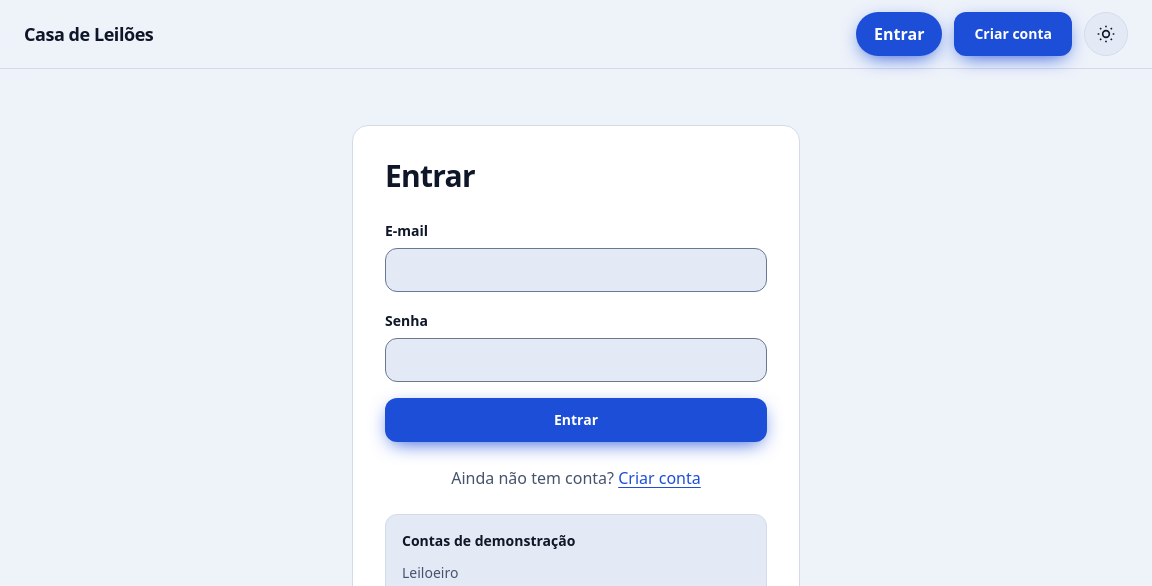
Test: /entrar › MUITAS_TENTATIVAS mostra os segundos do Retry-After
Type "a@b.co" into the field labelled "E-mail".
click(576, 270); type("a@b.co")  # box [385,248,767,292]
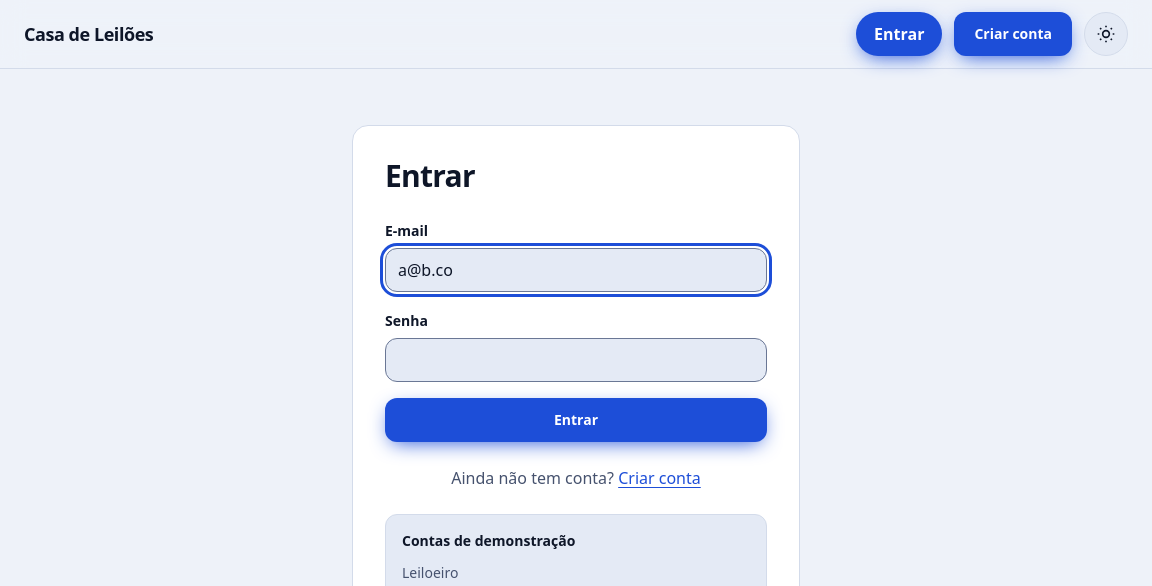
Type "x" into the password field labelled "Senha".
click(576, 360); type("x")  # box [385,338,767,382]
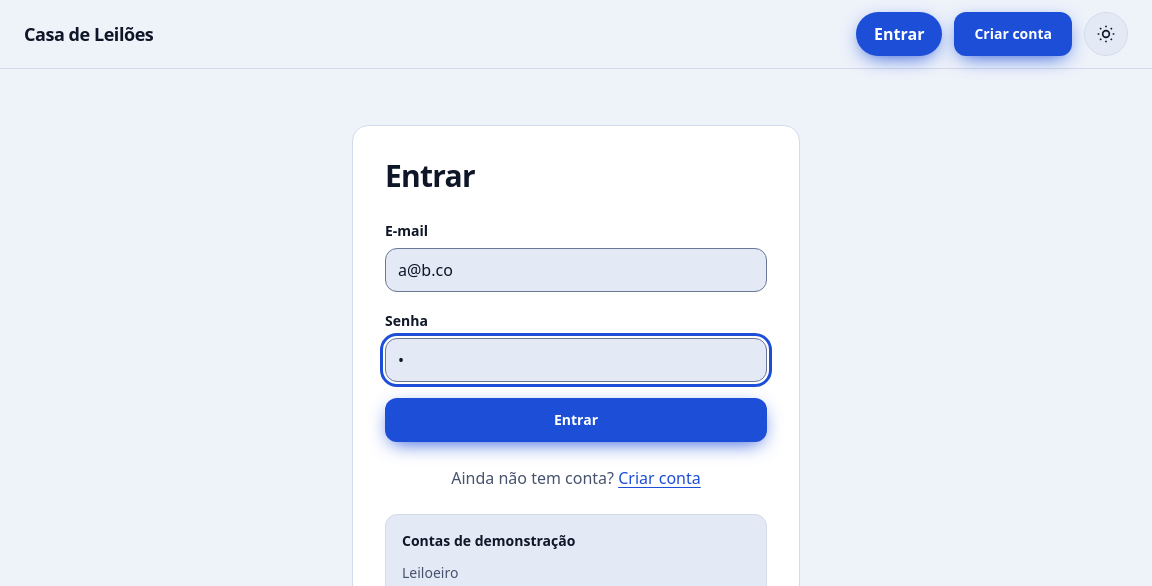
Click the button "Entrar".
click(576, 420)  # box [385,398,767,442]
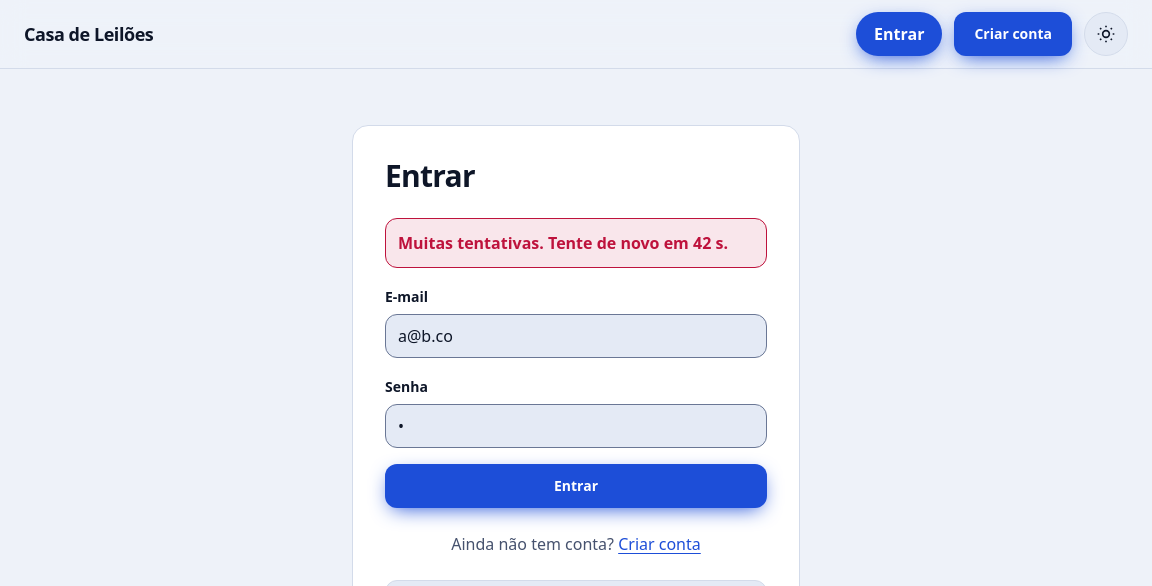
Result: the message reads "Muitas tentativas. Tente de novo em 42 s." at [398,232,728,254]
